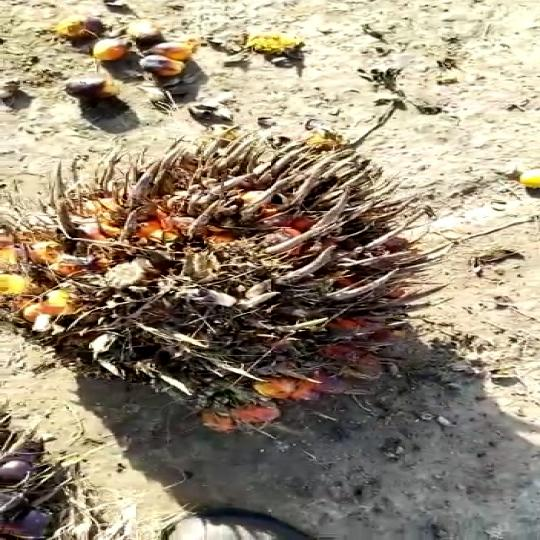terlalu masak: (0, 115, 470, 434)
